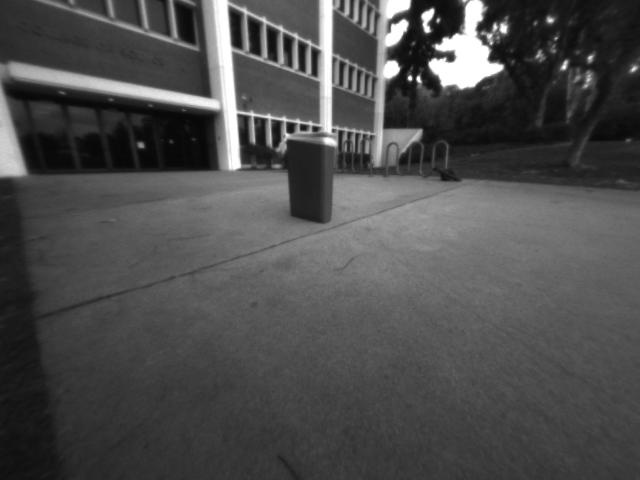trashcan_open: (276, 128, 338, 226)
